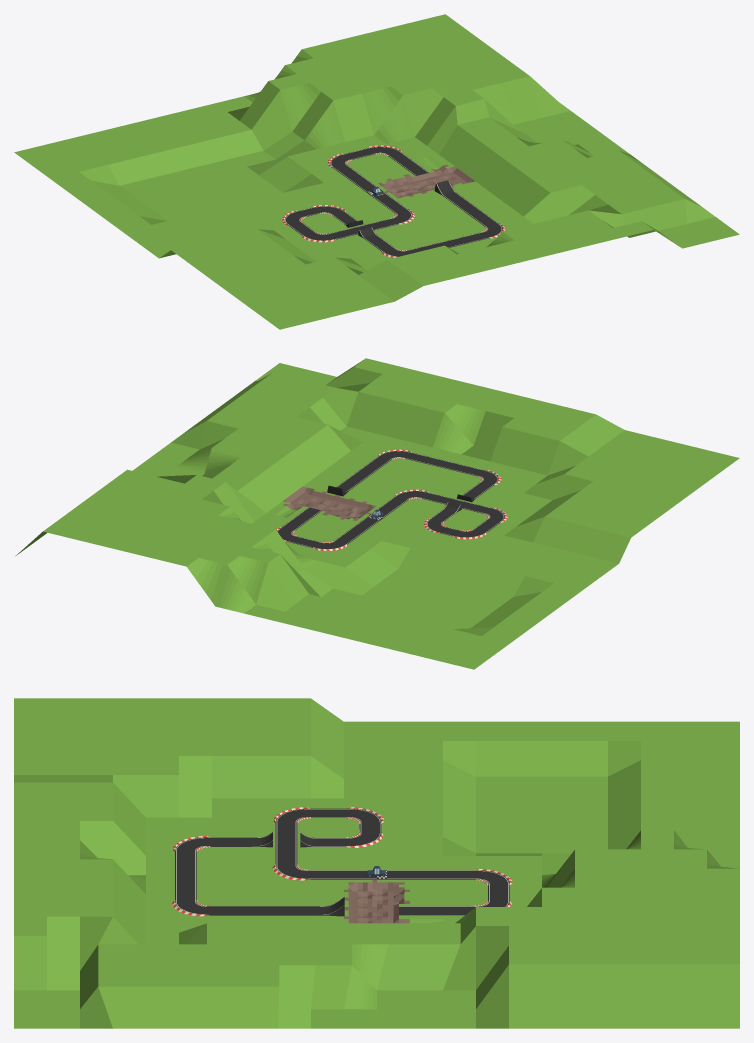
The model's file is Map.fbx.
3 views of the same model, one above another, from view 1: azimuth 30°, elevation 25°; view 2: azimuth 150°, elevation 25°; view 3: azimuth 270°, elevation 25° (orthographic). The views are drawn at different scales.
Parts seen in each view (by area): view 1: Ground, Track; view 2: Ground, Track; view 3: Ground, Track.
Part boxes in pixels (x1=…): Ground: x1=14, y1=14, x2=739, y2=329; Track: x1=282, y1=145, x2=505, y2=257; Ground: x1=15, y1=358, x2=739, y2=669; Track: x1=276, y1=449, x2=507, y2=550; Ground: x1=14, y1=698, x2=739, y2=1028; Track: x1=172, y1=807, x2=512, y2=916.
Size of the model in its own units: 24000 by 2242 by 24000.
